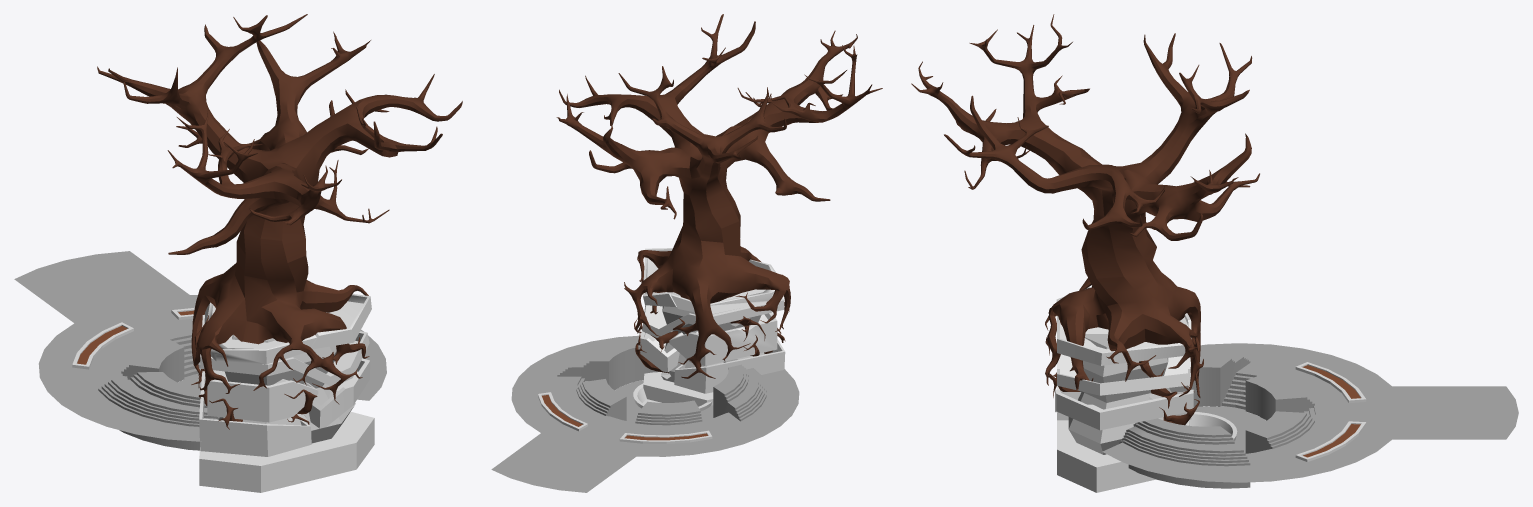
Rendered from world_plaza.fbx.
The picture shows the model from 3 angles, left to right: view 1: azimuth 30°, elevation 25°; view 2: azimuth 150°, elevation 25°; view 3: azimuth 270°, elevation 25°; orthographic projection. The views are drawn at different scales.
Visible parts, largest first — view 1: Tree, PlazaFloor, FaucilityPart.001, PlazaPlatforms, FaucilityPart.003, FaucilityPart.005, FaucilityBase, FaucilityPart.002, FaucilityPart, FaucilityPart.004, FaucilityPart.006, PlazaDirt; view 2: Tree, PlazaFloor, PlazaPlatforms, FaucilityPart.005, FaucilityPart.003, PlazaDirt, FaucilityPart.002, FaucilityPart.001, FaucilityPart, FaucilityBase, FaucilityPart.004, FaucilityPart.006; view 3: Tree, PlazaFloor, PlazaPlatforms, FaucilityBase, FaucilityPart.001, FaucilityPart.004, FaucilityPart.002, FaucilityPart.006, PlazaDirt.
Part boxes in pixels (x1,y1,x2,y2): Tree: (97, 14, 462, 429); PlazaFloor: (14, 251, 386, 441); FaucilityPart.001: (199, 412, 374, 492); PlazaPlatforms: (98, 336, 219, 450); FaucilityPart.003: (199, 371, 311, 456); FaucilityPart.005: (207, 370, 318, 422); FaucilityBase: (219, 312, 355, 443); FaucilityPart.002: (200, 314, 369, 386); FaucilityPart: (204, 302, 316, 364); FaucilityPart.004: (309, 358, 370, 428); FaucilityPart.006: (311, 294, 371, 349); PlazaDirt: (72, 308, 194, 369); Tree: (556, 14, 882, 378); PlazaFloor: (491, 335, 799, 492); PlazaPlatforms: (557, 341, 766, 425); FaucilityPart.005: (669, 312, 777, 365); FaucilityPart.003: (674, 339, 785, 393); PlazaDirt: (538, 392, 712, 443); FaucilityPart.002: (642, 298, 784, 337); FaucilityPart.001: (643, 372, 713, 406); FaucilityPart: (671, 259, 776, 313); FaucilityBase: (661, 306, 764, 382); FaucilityPart.004: (640, 324, 679, 372); FaucilityPart.006: (643, 248, 680, 307); Tree: (911, 14, 1259, 425); PlazaFloor: (1102, 343, 1518, 482); PlazaPlatforms: (1119, 356, 1314, 488); FaucilityBase: (1068, 334, 1174, 454); FaucilityPart.001: (1057, 419, 1189, 492); FaucilityPart.004: (1055, 389, 1193, 430); FaucilityPart.002: (1057, 321, 1191, 395); FaucilityPart.006: (1057, 320, 1191, 365); PlazaDirt: (1295, 362, 1366, 461).
Bounding box in the file's own units: 72.41 × 87.43 × 123.
